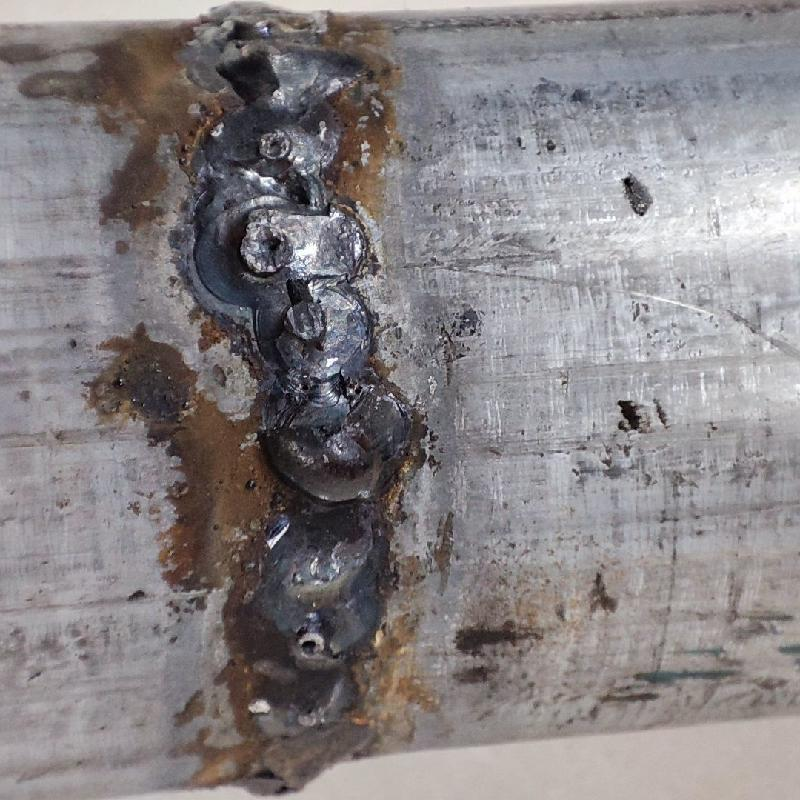Surface_pores: (248, 212, 296, 269), (284, 624, 333, 660)
Weld: (245, 409, 387, 504)
wrong_size: (172, 1, 406, 778)
